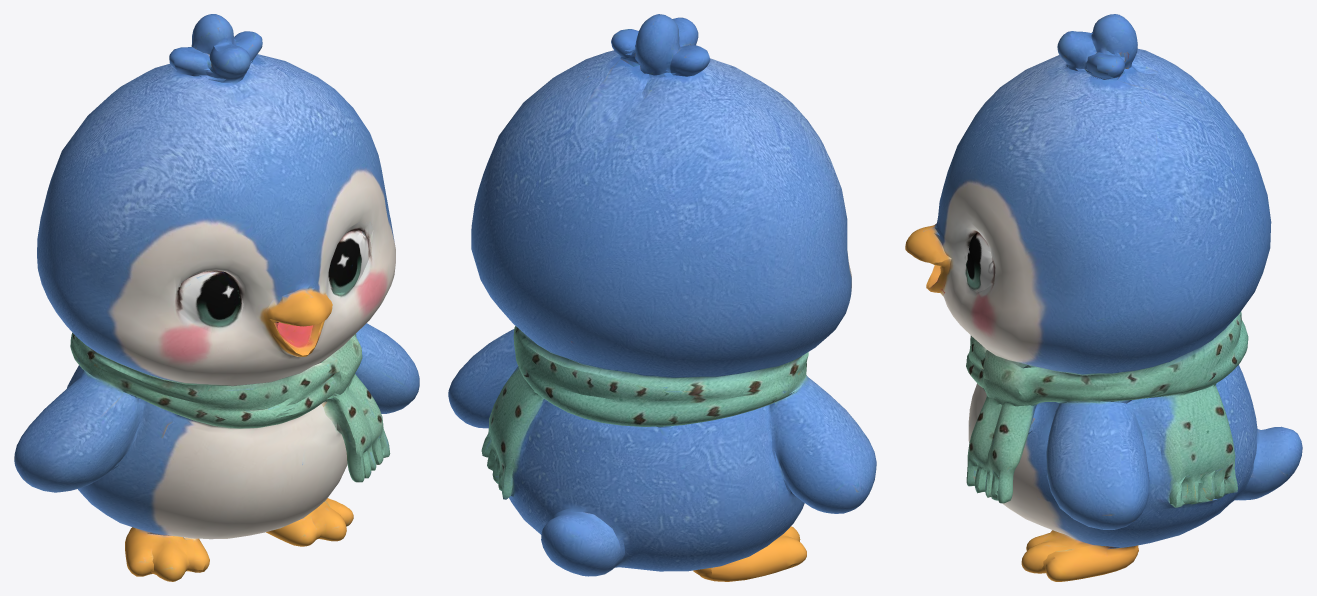
File: popo.glb
The picture shows the model from 3 angles, left to right: view 1: azimuth 30°, elevation 25°; view 2: azimuth 150°, elevation 25°; view 3: azimuth 270°, elevation 25°; orthographic projection. The views are drawn at different scales.
Parts seen in each view (by area): view 1: Mesh_0; view 2: Mesh_0; view 3: Mesh_0.
Boxes of the visible parts, bbox=[...] form: Mesh_0: bbox=[14, 14, 419, 581]; Mesh_0: bbox=[448, 14, 876, 581]; Mesh_0: bbox=[905, 14, 1302, 581].
Bounding box in the file's own units: 0.7887 × 1 × 0.695.
Materials: 1 (1 with a texture image).
